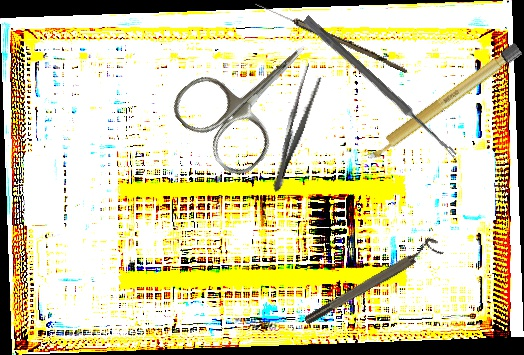Dressing Forceps: (265, 60, 327, 196)
Fixation Ring: (299, 234, 444, 328)
Iris Scissors: (164, 8, 342, 184)
Scalpel Handle: (363, 41, 523, 164)
Surgical Spoon: (301, 15, 460, 159), (253, 0, 409, 74)
